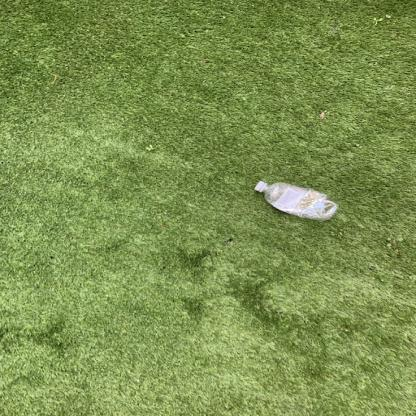trash: (251, 180, 341, 225)
